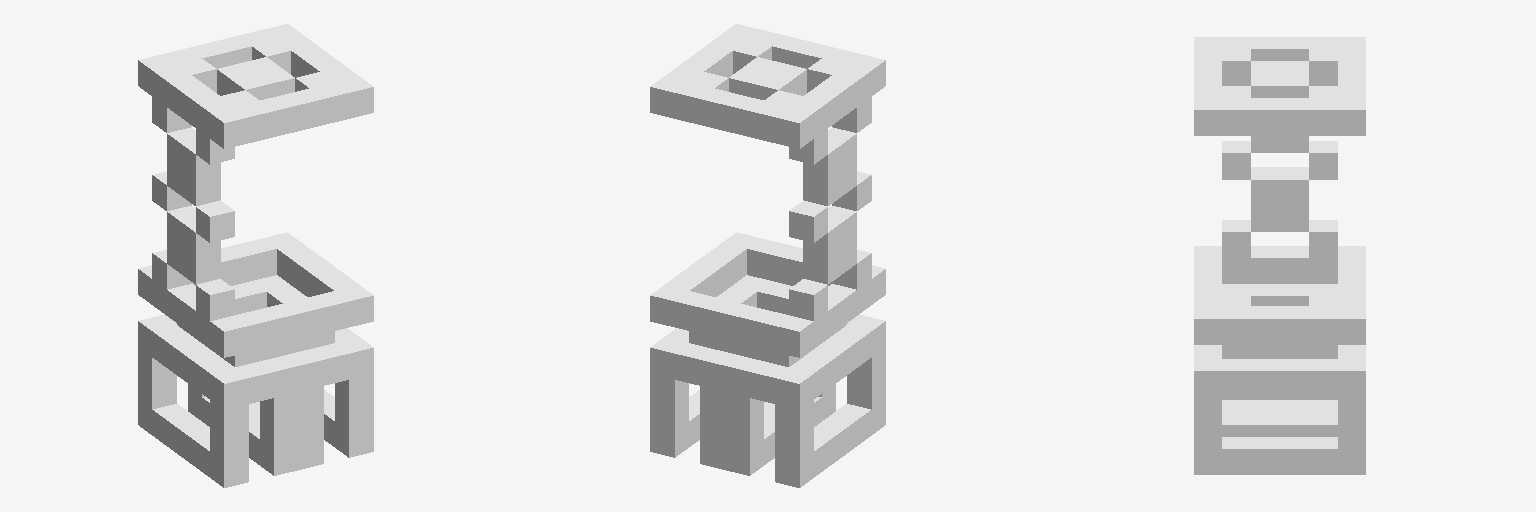
Rendered from RoboZomboArmColOnly.obj.
3 renders of one model, left to right at view 1: azimuth 30°, elevation 25°; view 2: azimuth 150°, elevation 25°; view 3: azimuth 270°, elevation 25°, orthographic.
Size of the model in its own units: 6 by 14 by 6.